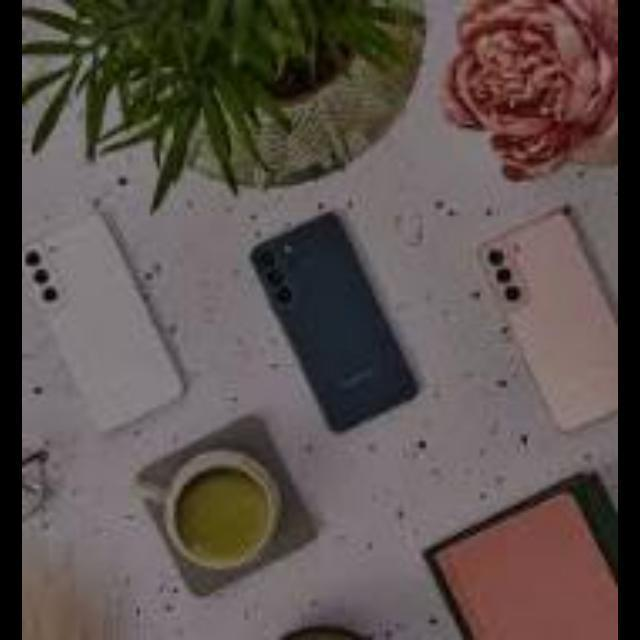phone: (22, 207, 197, 433), (247, 206, 417, 434), (461, 195, 618, 435), (424, 478, 630, 640)
